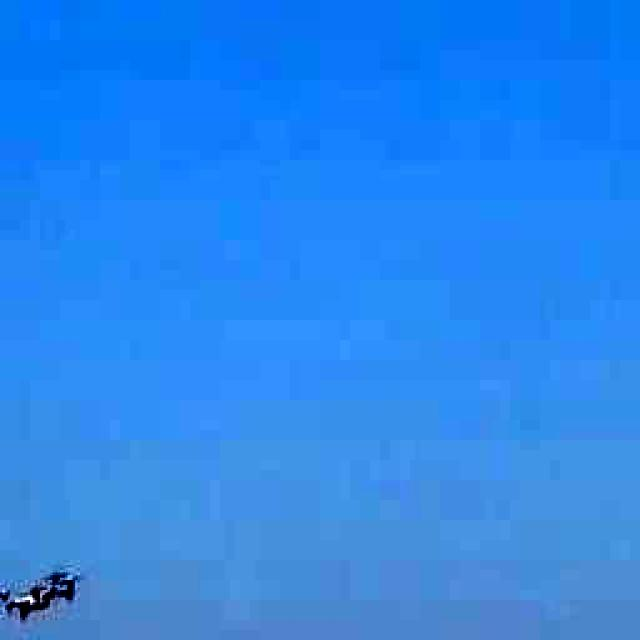bird: (0, 544, 100, 640)
